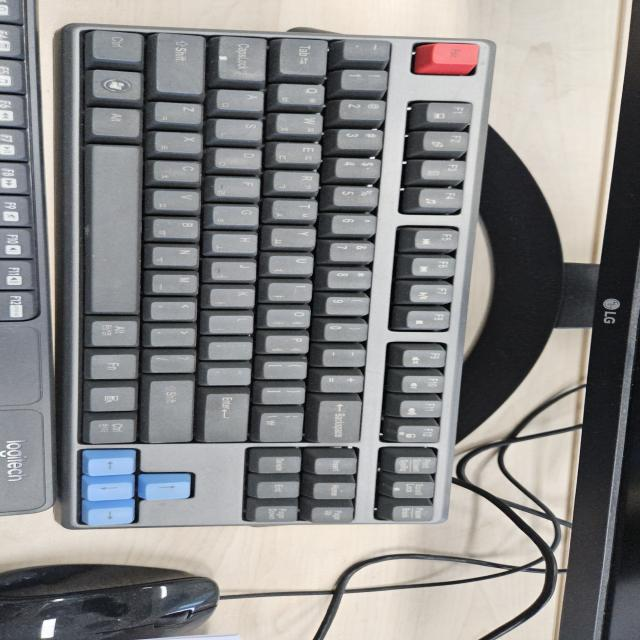Keyboard: (41, 18, 497, 530)
Mouse: (1, 562, 222, 638)
